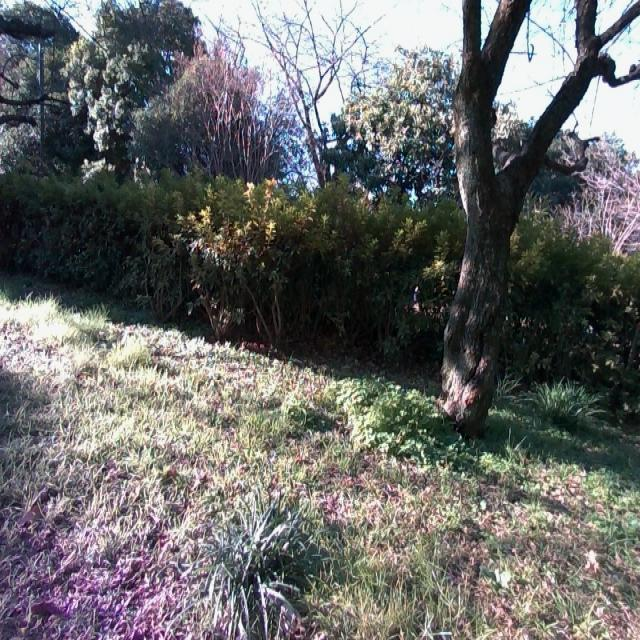bush: (0, 154, 638, 399)
tree: (413, 0, 637, 458)
